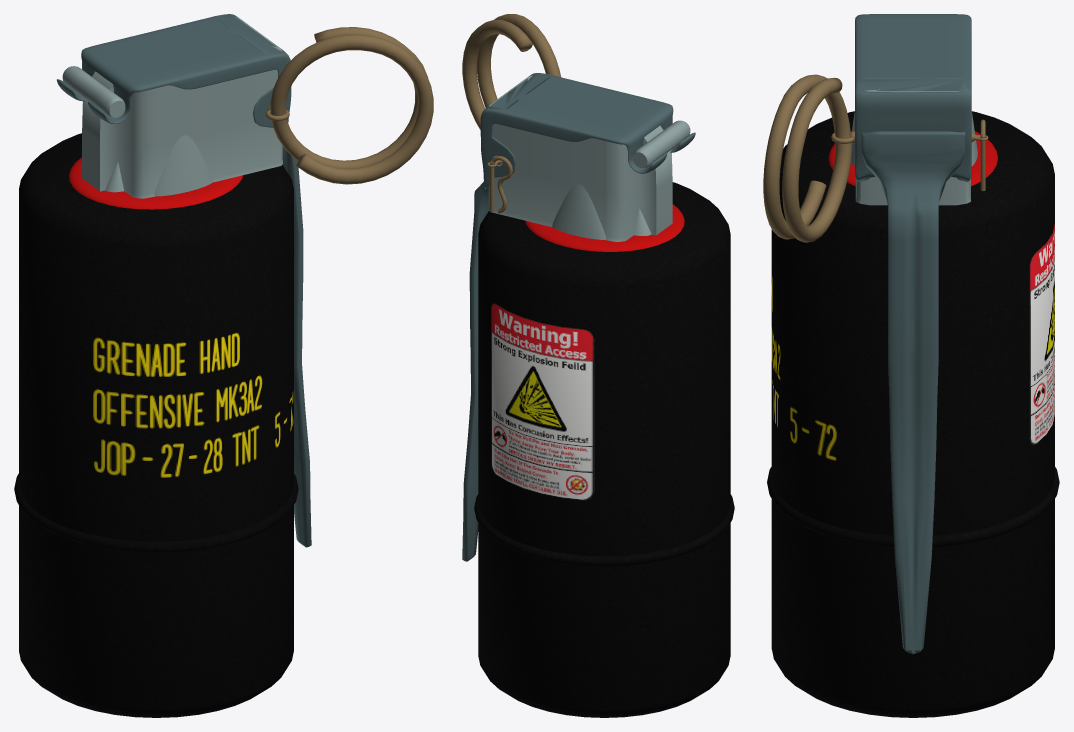
The picture shows the model from 3 angles, left to right: view 1: azimuth 30°, elevation 25°; view 2: azimuth 150°, elevation 25°; view 3: azimuth 270°, elevation 25°; orthographic projection. The views are drawn at different scales.
Visible parts, largest first — view 1: Container, Cap, Release, Pin_Grip; view 2: Container, Cap, Release, Pin_Grip, Pin_Pin; view 3: Container, Release, Pin_Grip, Cap.
Boxes of the visible parts, <box> form: Container: <box>14,133,298,717</box>; Cap: <box>62,15,282,198</box>; Release: <box>57,14,311,547</box>; Pin_Grip: <box>270,27,433,184</box>; Container: <box>474,182,734,717</box>; Cap: <box>488,75,690,241</box>; Release: <box>462,73,695,561</box>; Pin_Grip: <box>462,14,560,129</box>; Pin_Pin: <box>490,156,512,213</box>; Container: <box>767,111,1059,717</box>; Release: <box>855,14,971,654</box>; Pin_Grip: <box>763,74,851,242</box>; Cap: <box>851,89,977,205</box>.
Size of the model in its own units: 106 by 191 by 78.25.
4 materials, 1 textured.
